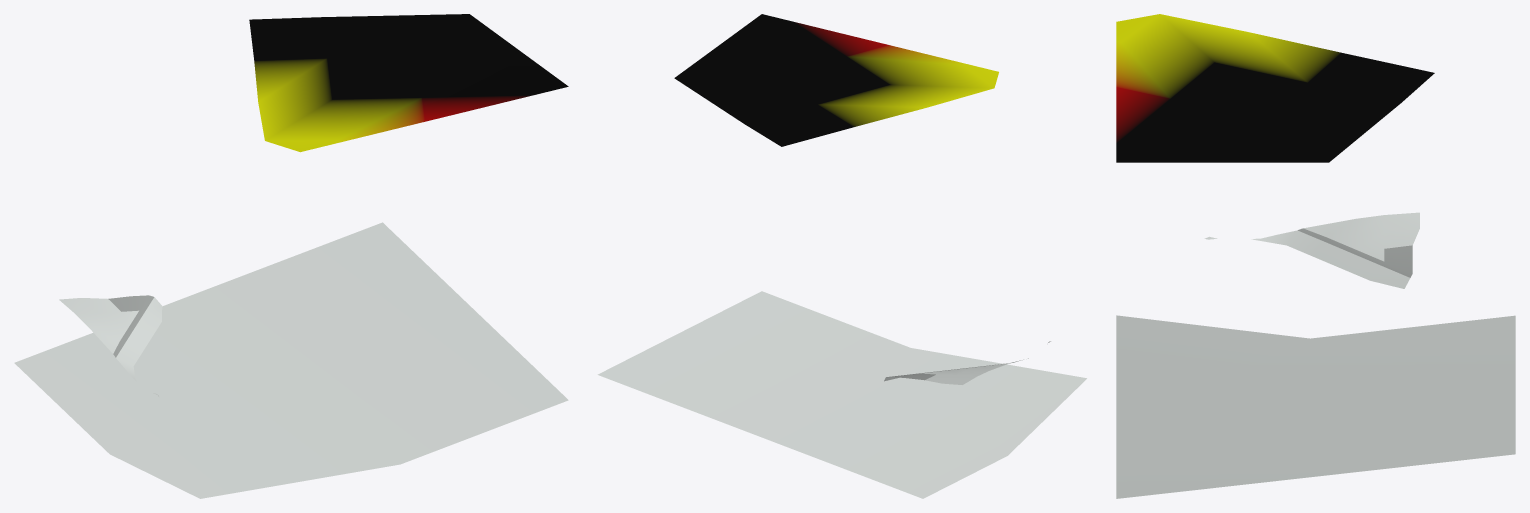
3 views of the same model, side by side, from view 1: azimuth 30°, elevation 25°; view 2: azimuth 150°, elevation 25°; view 3: azimuth 270°, elevation 25° (orthographic). The views are drawn at different scales.
Parts seen in each view (by area): view 1: G:\FFXIV-MapTools\exports\g3f2\bg\ex2\01_gyr_g3\fld\g3f2\bgp (×4); view 2: G:\FFXIV-MapTools\exports\g3f2\bg\ex2\01_gyr_g3\fld\g3f2\bgp (×3); view 3: G:\FFXIV-MapTools\exports\g3f2\bg\ex2\01_gyr_g3\fld\g3f2\bgp (×6).
Boxes of the visible parts, x1,y1,x2,y2 form: G:\FFXIV-MapTools\exports\g3f2\bg\ex2\01_gyr_g3\fld\g3f2\bgp (×4): [14, 14, 568, 498]; G:\FFXIV-MapTools\exports\g3f2\bg\ex2\01_gyr_g3\fld\g3f2\bgp (×3): [597, 14, 1086, 498]; G:\FFXIV-MapTools\exports\g3f2\bg\ex2\01_gyr_g3\fld\g3f2\bgp (×6): [1116, 14, 1515, 498].
Bounding box in the file's own units: 128 × 114 × 112.
